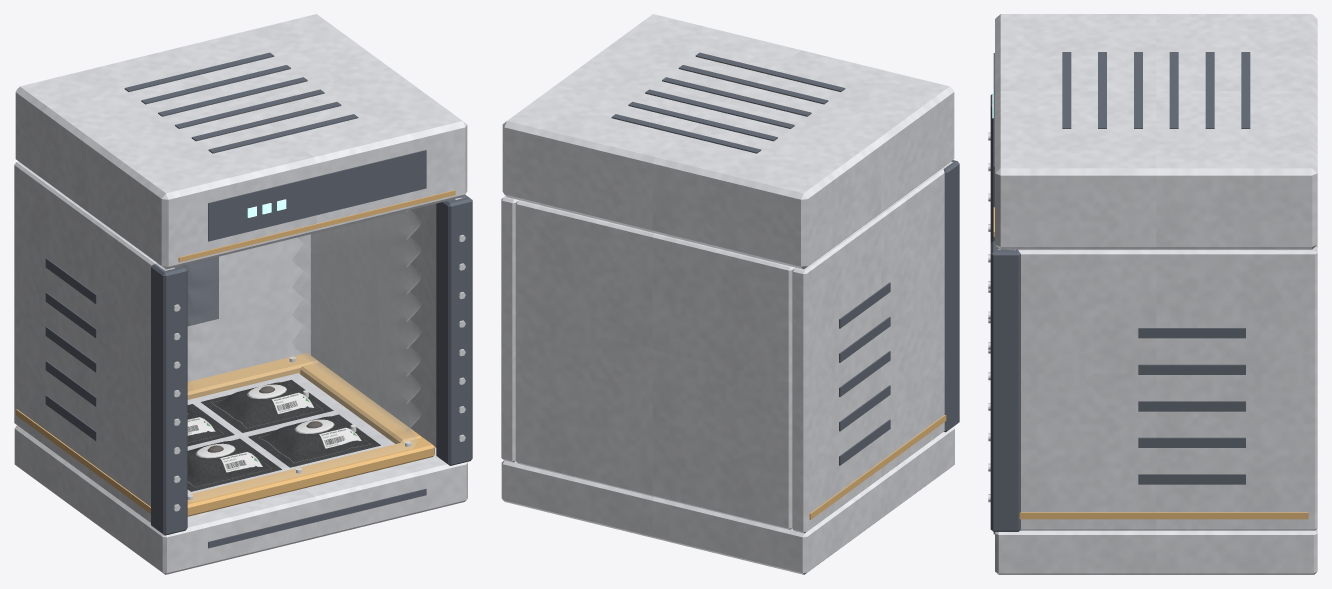
Rendered from NASA_Veggie_Chamber_Empty.glb.
3 views of the same model, side by side, from view 1: azimuth 30°, elevation 25°; view 2: azimuth 150°, elevation 25°; view 3: azimuth 270°, elevation 25° (orthographic). The views are drawn at different scales.
Parts seen in each view (by area): view 1: Frame_White, Transparent_Bellows, Frame_Dark, Frame_Gold, Plant_Pillows, Pillow_Labels, White_Plastic_Parts, Metal_Silver; view 2: Frame_White, Frame_Dark, Frame_Gold; view 3: Frame_White, Frame_Dark, Frame_Gold.
Boxes of the visible parts, bbox=[...] form: Frame_White: bbox=[14, 14, 467, 574]; Transparent_Bellows: bbox=[184, 210, 421, 501]; Frame_Dark: bbox=[45, 52, 472, 548]; Frame_Gold: bbox=[16, 190, 455, 516]; Plant_Pillows: bbox=[187, 379, 380, 491]; Pillow_Labels: bbox=[187, 392, 361, 472]; White_Plastic_Parts: bbox=[187, 384, 356, 458]; Metal_Silver: bbox=[173, 235, 465, 511]; Frame_White: bbox=[501, 14, 954, 574]; Frame_Dark: bbox=[611, 52, 959, 465]; Frame_Gold: bbox=[809, 415, 946, 519]; Frame_White: bbox=[995, 14, 1317, 574]; Frame_Dark: bbox=[990, 52, 1250, 534]; Frame_Gold: bbox=[993, 207, 1308, 519].
Bounding box in the file's own units: 0.426 × 0.5015 × 0.3675.
11 materials, 4 textured.
